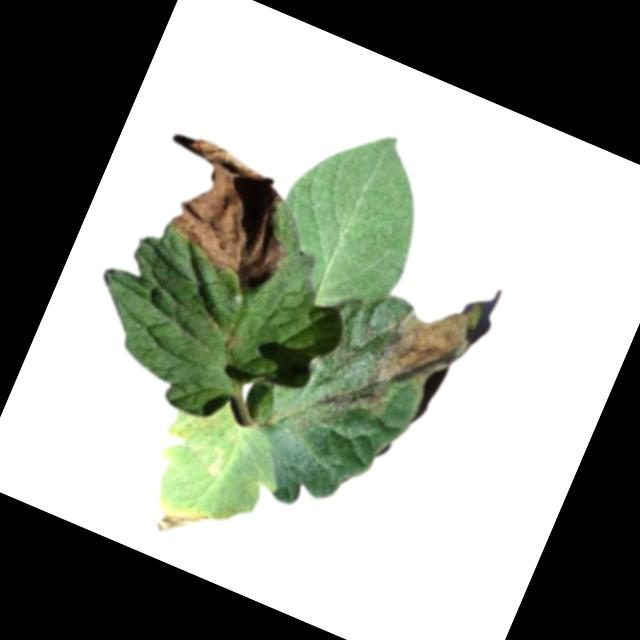Late_blight: (147, 136, 316, 303), (356, 264, 501, 437), (150, 496, 210, 547)
